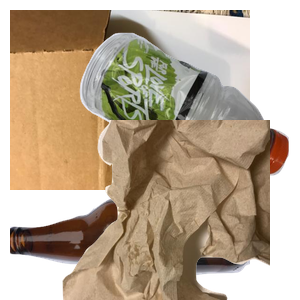cardboard: (10, 10, 250, 190)
glass: (10, 188, 250, 300)
plastic: (77, 30, 300, 198)
trash: (60, 120, 300, 300)
